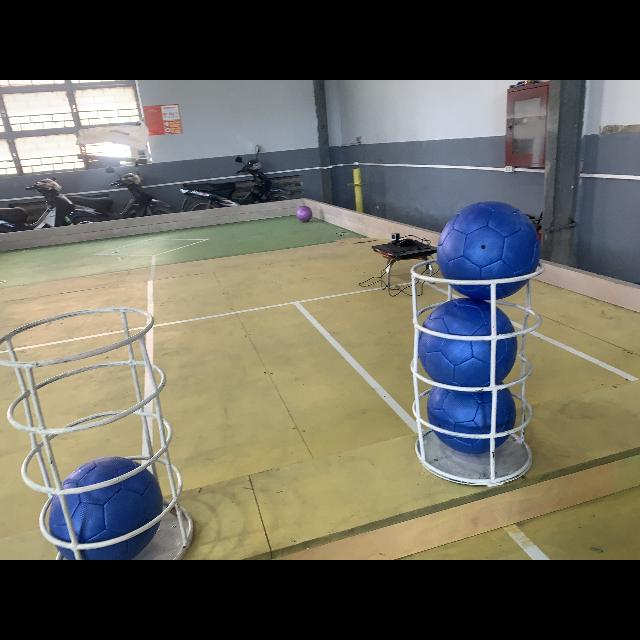B: (48, 458, 164, 560), (435, 198, 539, 300), (420, 302, 510, 390), (424, 387, 520, 461)
